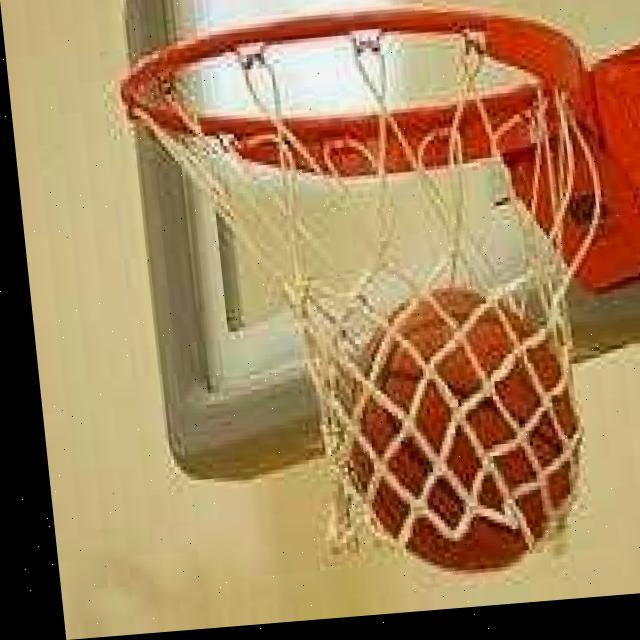basketball: (328, 271, 597, 590)
hoop: (105, 0, 640, 606), (105, 0, 640, 595)
